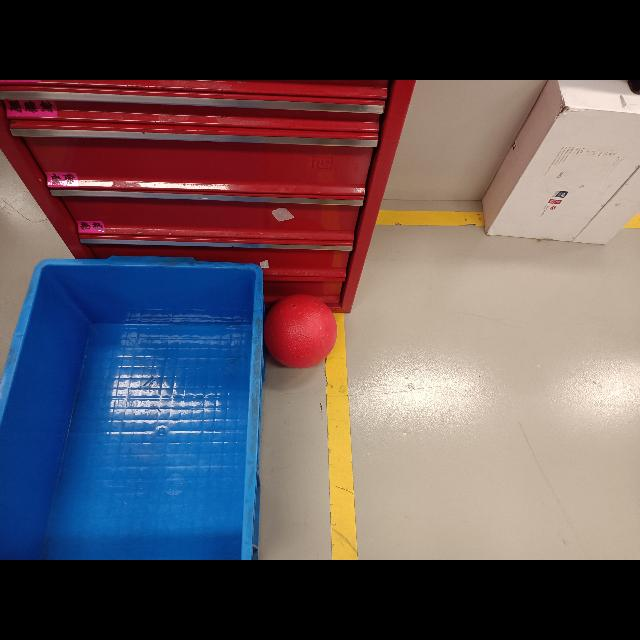R: (264, 293, 338, 372)
